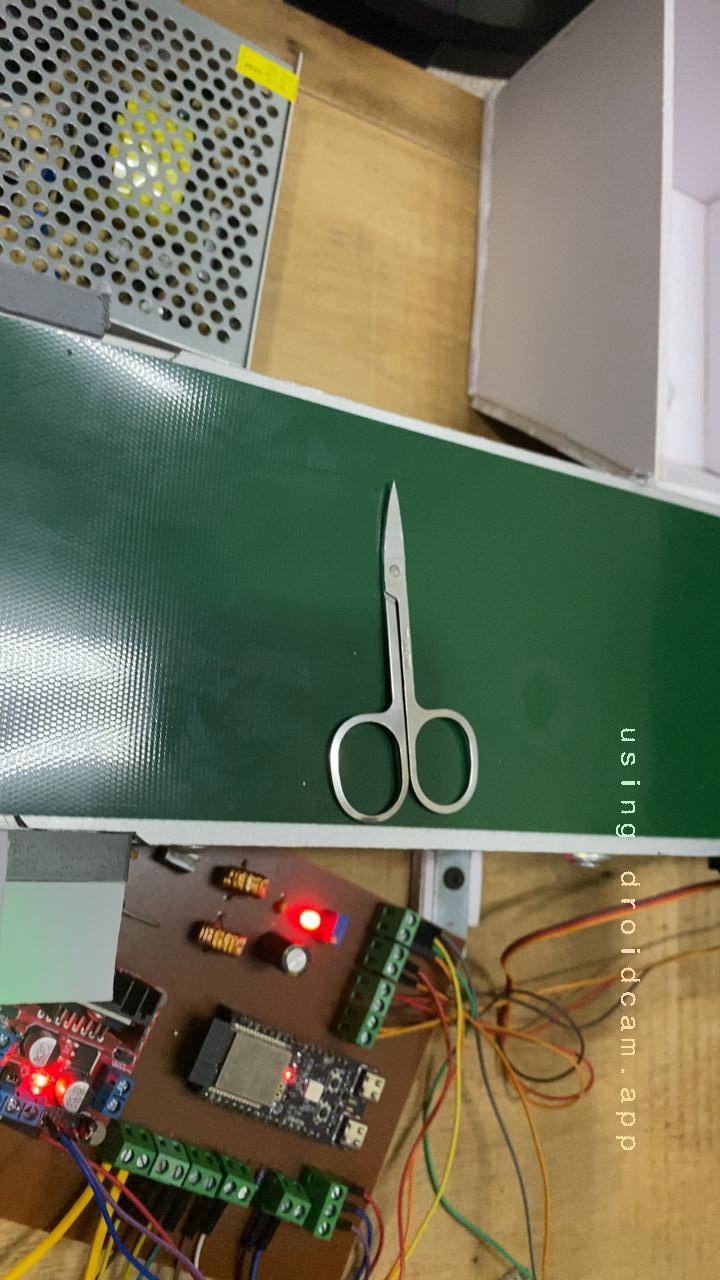scissor: (256, 466, 516, 835)
